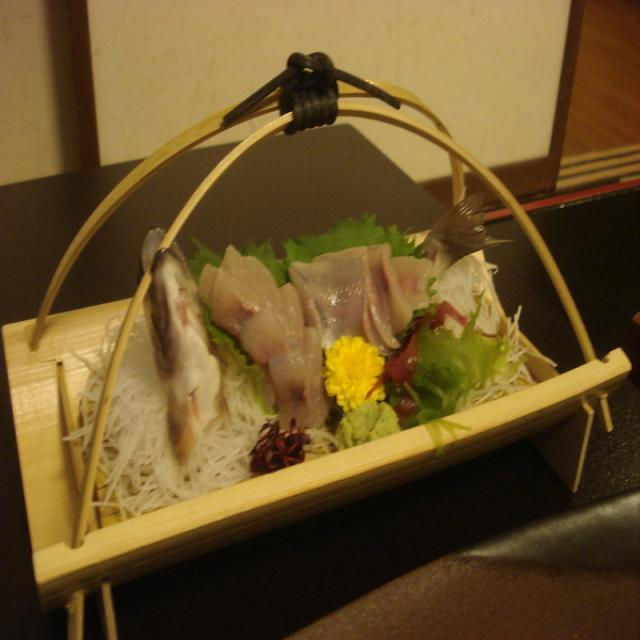刺身生食: (65, 156, 563, 483)
